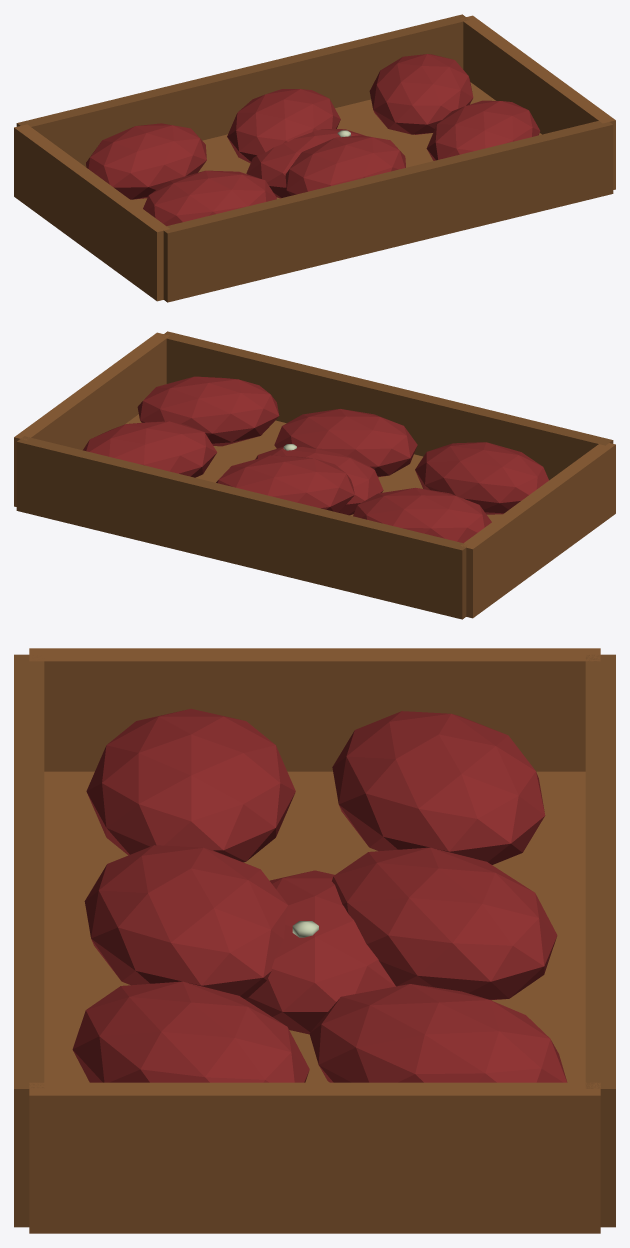
The model's file is Meat_Venison.fbx.
The picture shows the model from 3 angles, top to bottom: view 1: azimuth 30°, elevation 25°; view 2: azimuth 150°, elevation 25°; view 3: azimuth 270°, elevation 25°; orthographic projection. The views are drawn at different scales.
Visible parts, largest first — view 1: Meat_Venison__Stack, Meat_Venison; view 2: Meat_Venison__Stack, Meat_Venison; view 3: Meat_Venison__Stack, Meat_Venison.
Boxes of the visible parts, x1,y1,x2,y2 form: Meat_Venison__Stack: (14,14,615,302); Meat_Venison: (246,128,365,198); Meat_Venison__Stack: (14,331,615,619); Meat_Venison: (255,447,383,515); Meat_Venison__Stack: (14,648,615,1233); Meat_Venison: (245,870,395,1034).
Bounding box in the file's own units: 0.2777 × 0.041 × 0.158.
